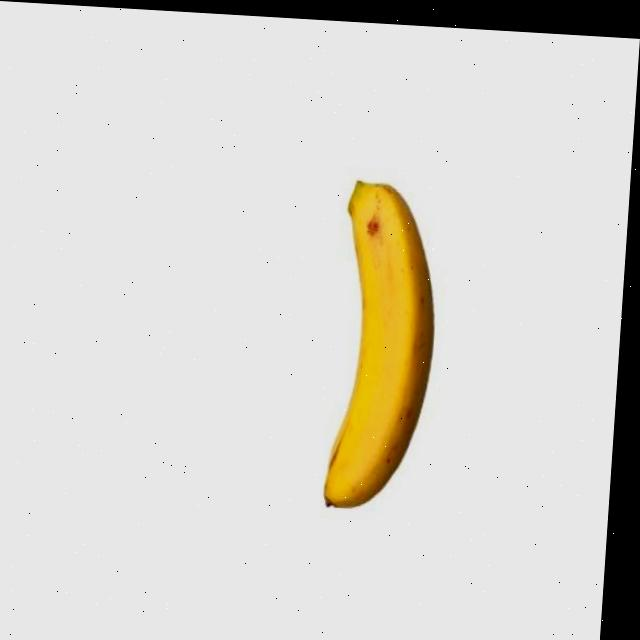banana: (321, 177, 446, 517)
